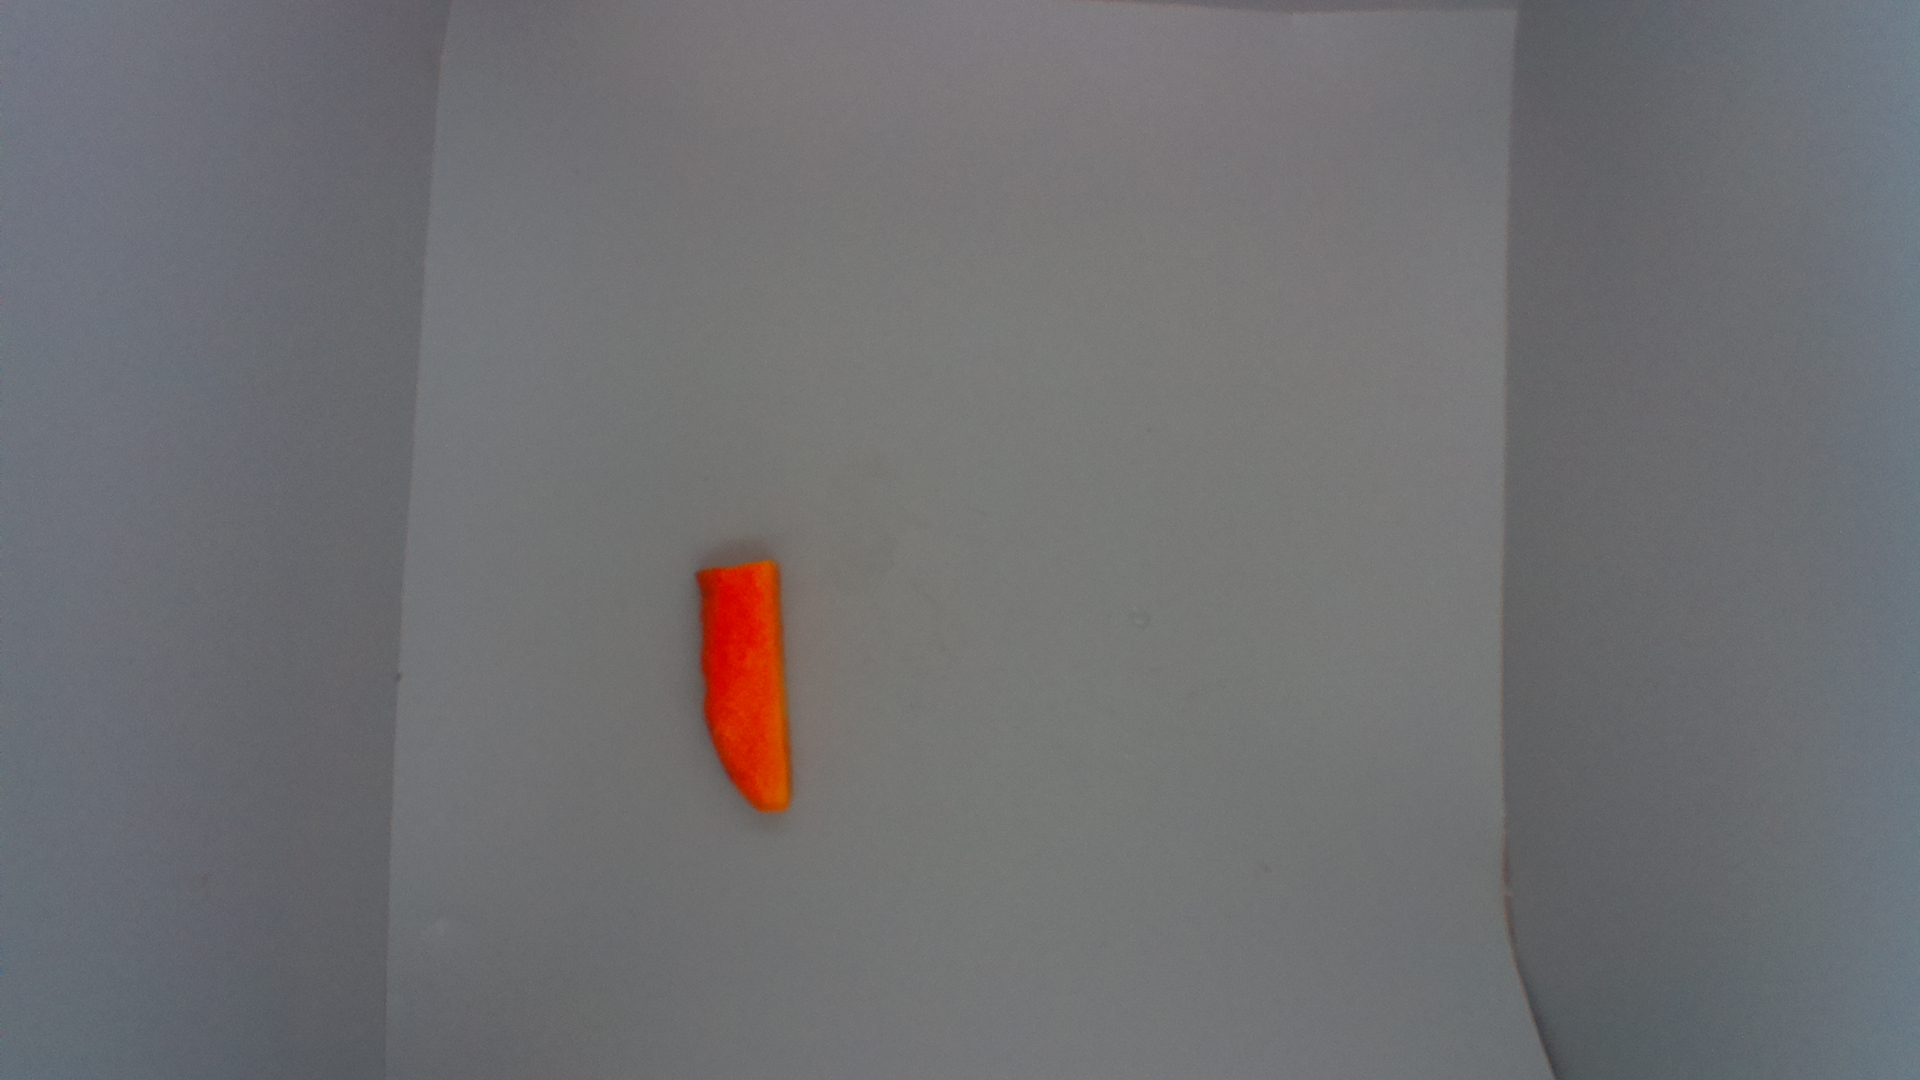carrot: (696, 558, 799, 816)
